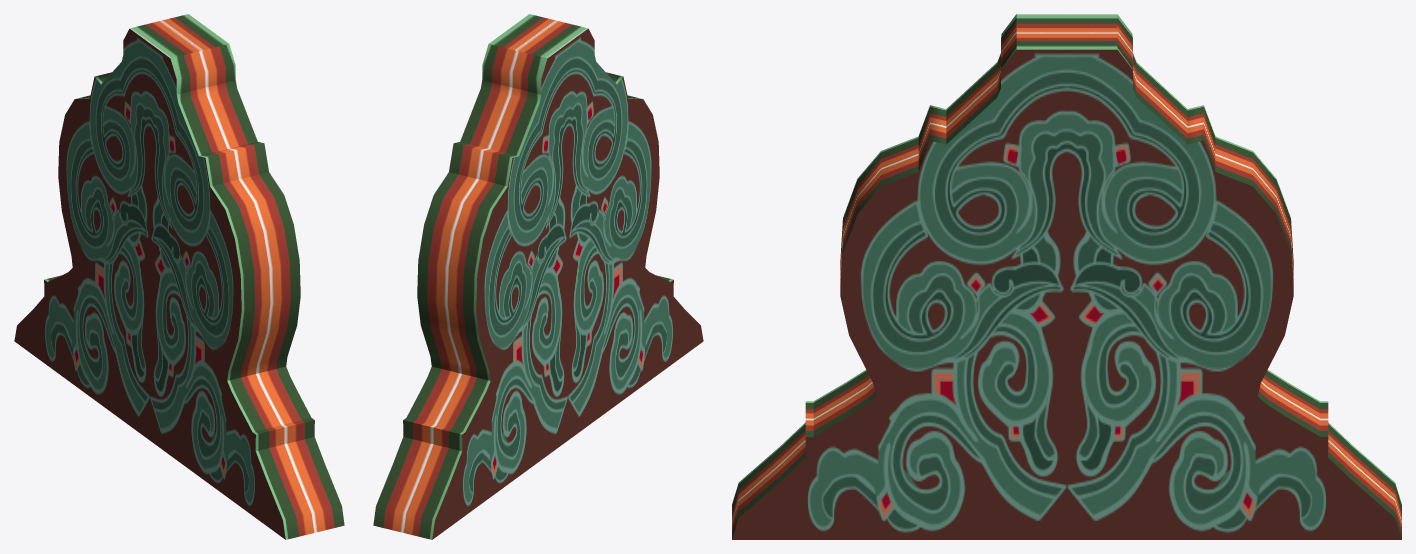
Rendered from SM_R_DancheongSupport_1.fbx.
The picture shows the model from 3 angles, left to right: view 1: azimuth 30°, elevation 25°; view 2: azimuth 150°, elevation 25°; view 3: azimuth 270°, elevation 25°; orthographic projection. The views are drawn at different scales.
Visible parts, largest first — view 1: SM_R_DancheongSupport_1; view 2: SM_R_DancheongSupport_1; view 3: SM_R_DancheongSupport_1.
Boxes of the visible parts, x1,y1,x2,y2 form: SM_R_DancheongSupport_1: (14, 14, 344, 539); SM_R_DancheongSupport_1: (373, 14, 703, 539); SM_R_DancheongSupport_1: (732, 14, 1401, 539).
Size of the model in its own units: 14.34 by 114 by 92.26.
2 materials, 2 textured.
